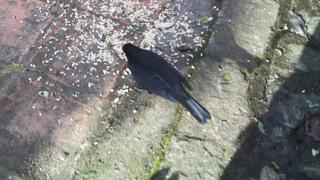blackbird: (122, 42, 212, 124)
